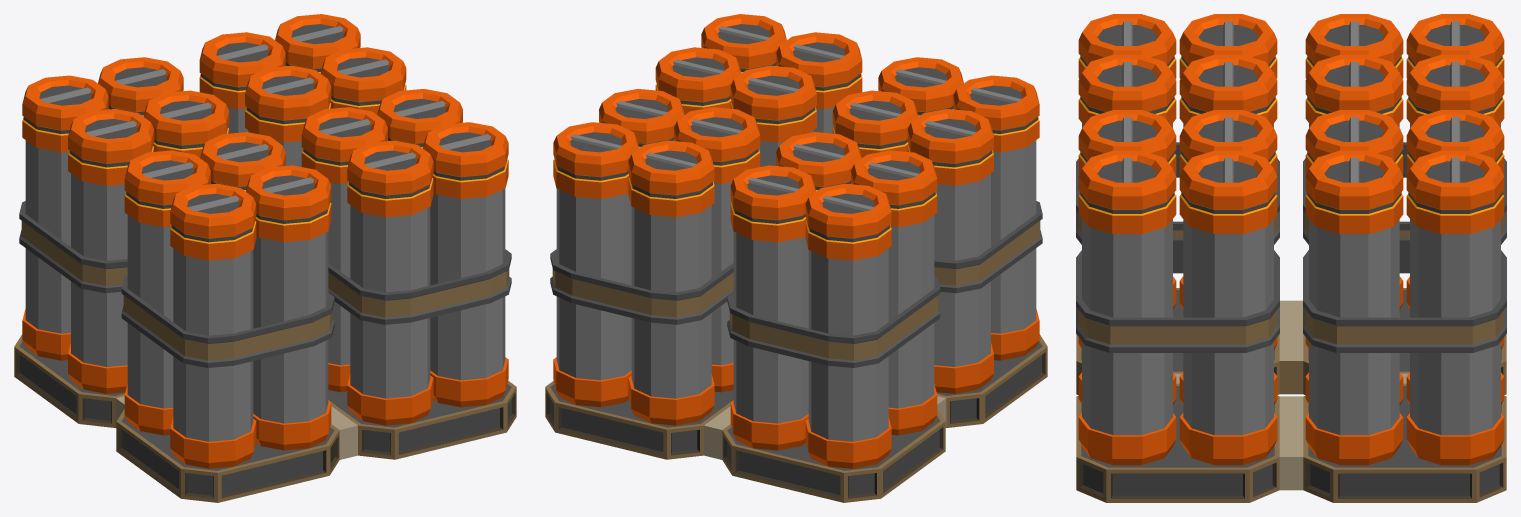
The model's file is Palete.fbx.
3 renders of one model, left to right at view 1: azimuth 30°, elevation 25°; view 2: azimuth 150°, elevation 25°; view 3: azimuth 270°, elevation 25°, orthographic. The views are drawn at different scales.
Parts seen in each view (by area): view 1: Canister00.002; view 2: Canister00.002; view 3: Canister00.002.
Part boxes in pixels (x1,y1,x2,y2): Canister00.002: [14, 14, 516, 502]; Canister00.002: [545, 14, 1047, 502]; Canister00.002: [1076, 14, 1506, 502].
Size of the model in its own units: 1.9 by 1.52 by 1.9.
